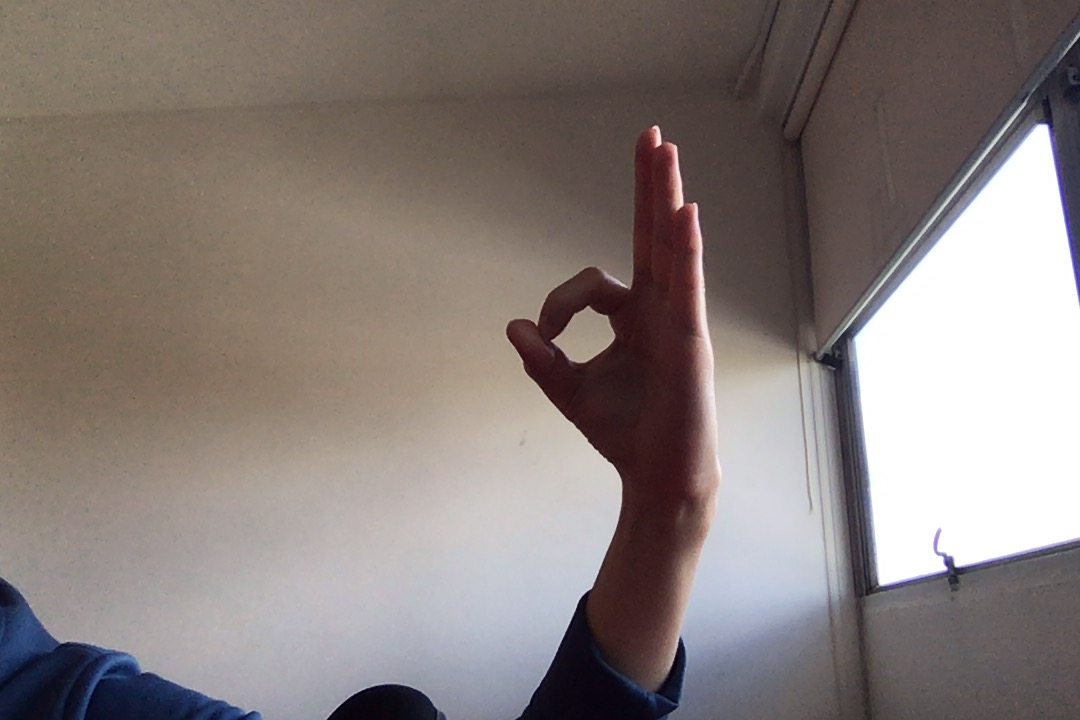oksign: (503, 120, 726, 495)
